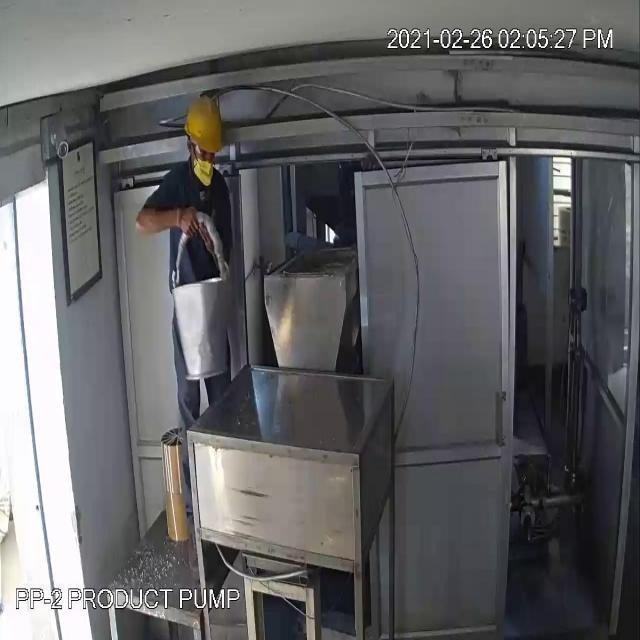hat: (185, 87, 228, 173)
